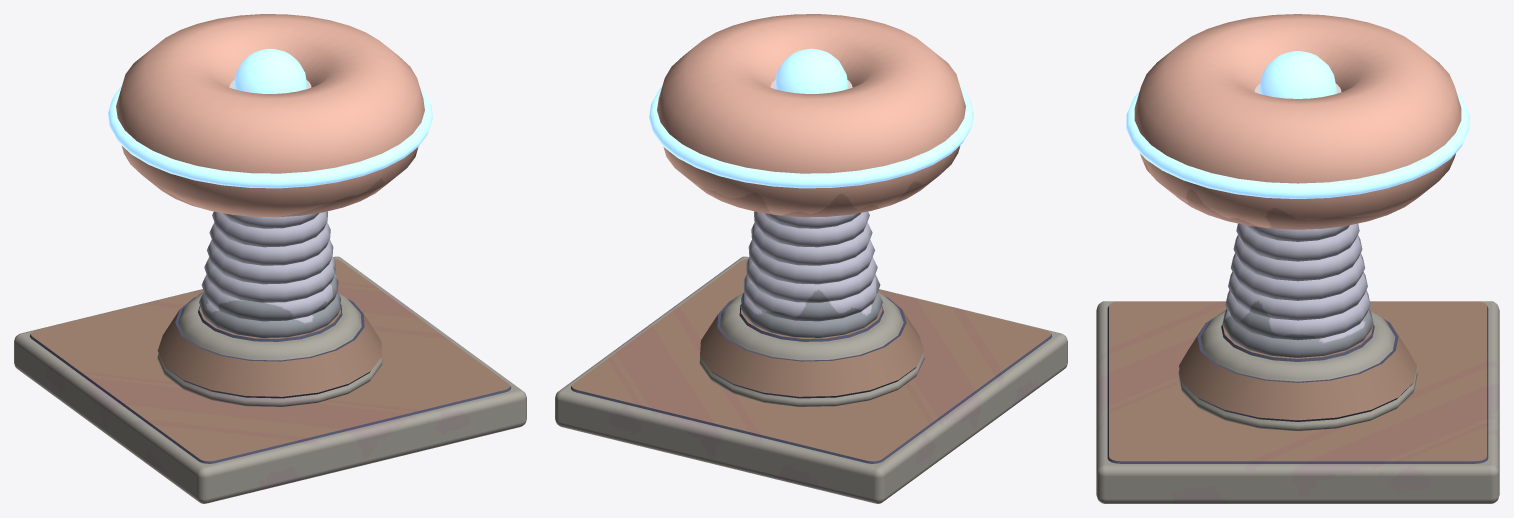
File: R4X_AreaEMP.glb
3 views of the same model, side by side, from view 1: azimuth 30°, elevation 25°; view 2: azimuth 150°, elevation 25°; view 3: azimuth 270°, elevation 25° (orthographic). The views are drawn at different scales.
Visible parts, largest first — view 1: R4X_AreaEMP_Body; view 2: R4X_AreaEMP_Body; view 3: R4X_AreaEMP_Body.
Part boxes in pixels (box(x1,y1,x2,y2)): R4X_AreaEMP_Body: box(14, 14, 526, 503); R4X_AreaEMP_Body: box(555, 14, 1067, 503); R4X_AreaEMP_Body: box(1096, 14, 1499, 503).
Bounding box in the file's own units: 0.514 × 0.52 × 0.514.
5 materials, 4 textured.
